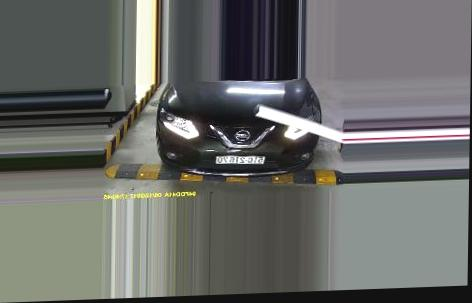License_Plate: (216, 151, 266, 165)
